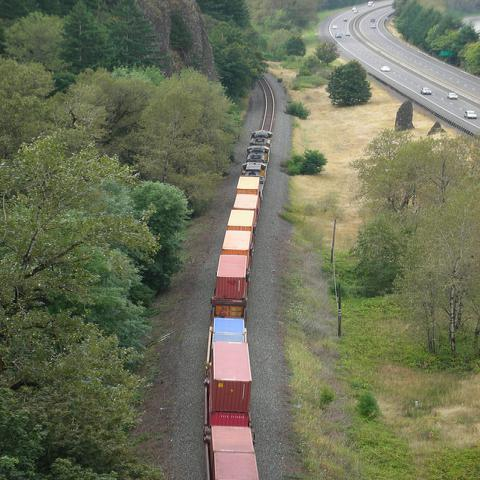car: (464, 110, 478, 118), (420, 88, 432, 95), (448, 93, 458, 98), (381, 66, 390, 71), (335, 33, 343, 38), (367, 1, 373, 7), (352, 7, 358, 11), (345, 32, 350, 36), (370, 18, 375, 22), (371, 24, 375, 28), (332, 26, 337, 29), (353, 11, 358, 14), (344, 18, 347, 22)
